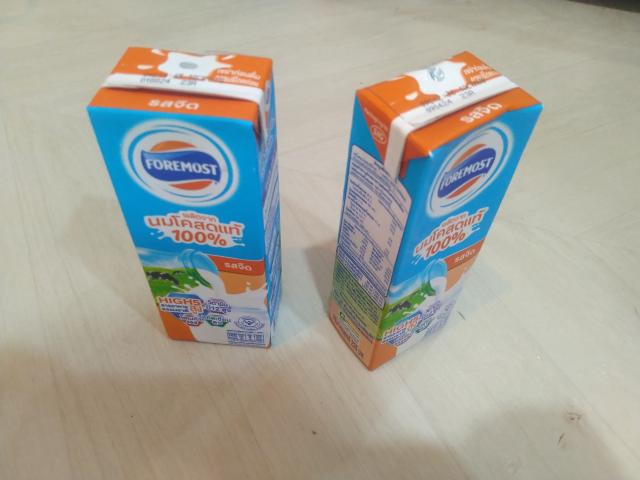drink_box: (60, 30, 303, 357), (327, 47, 548, 375)
